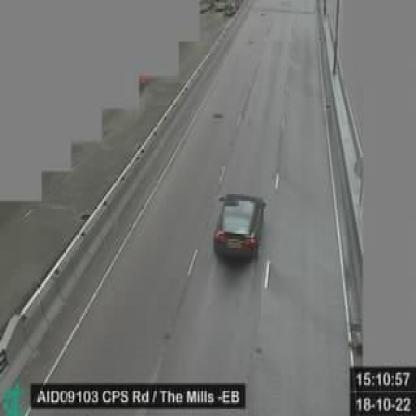Car: (213, 194, 267, 266)
